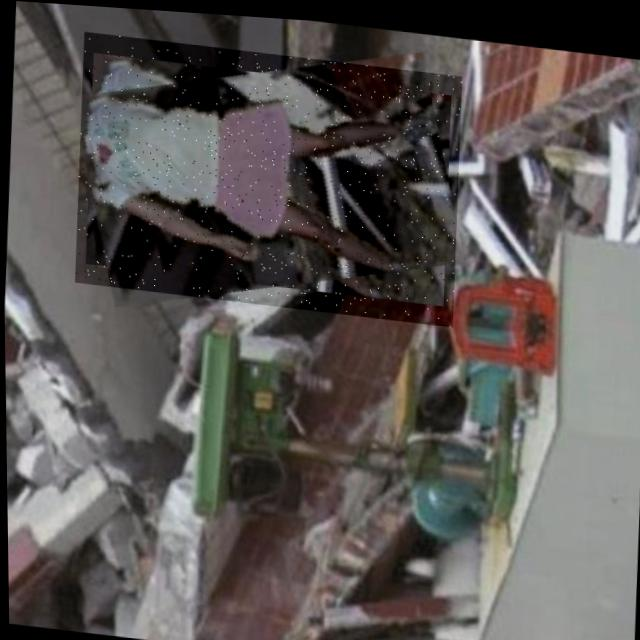Person in Rubble: (71, 30, 465, 321)
